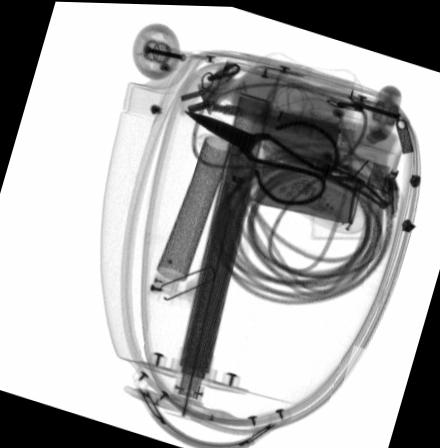Knife: (269, 140, 401, 209)
Powerbank: (262, 103, 361, 174)
Scissors: (181, 105, 337, 205)
